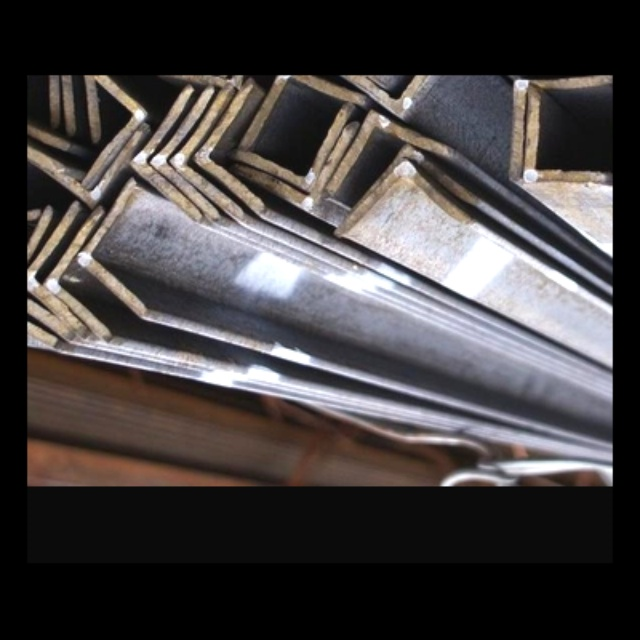Angle: (513, 75, 607, 172), (242, 129, 351, 202), (337, 118, 443, 192), (246, 75, 359, 141), (343, 169, 461, 230), (140, 93, 198, 216), (246, 111, 345, 181), (158, 91, 213, 211), (87, 186, 139, 309), (203, 90, 258, 206), (31, 212, 82, 328), (180, 96, 232, 209), (530, 94, 601, 175), (55, 216, 102, 334), (87, 75, 139, 178), (362, 150, 459, 199), (27, 215, 63, 331), (64, 75, 137, 128), (96, 75, 158, 131), (52, 75, 124, 121), (337, 75, 444, 103), (27, 229, 52, 340)
